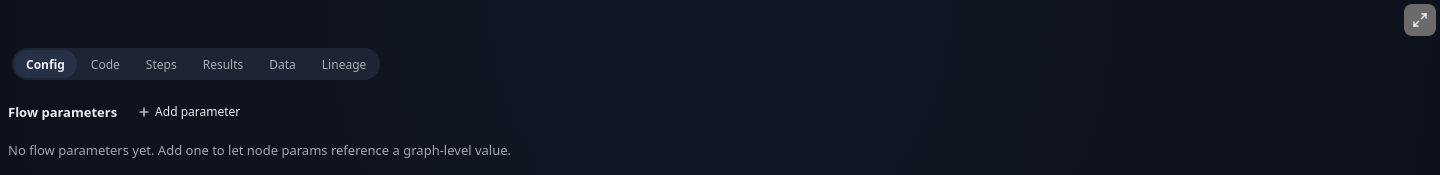
Test case: Results tab with nothing selected shows the no-selection empty state
Click the button with test id "inspector-tab-results": (223, 64) [191,50,255,78]
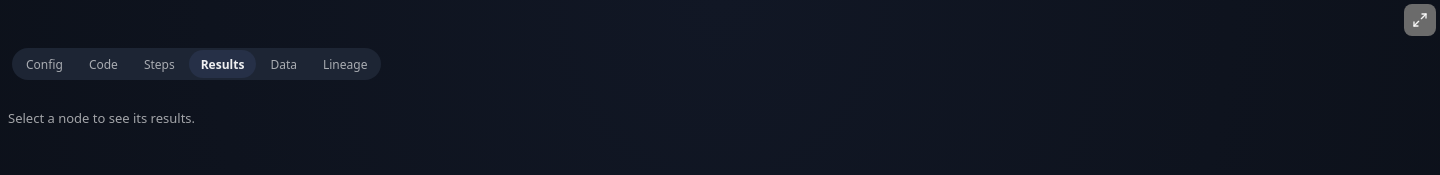
Expected: the text "Select a node to see its results." is shown, [8,109,195,127]
